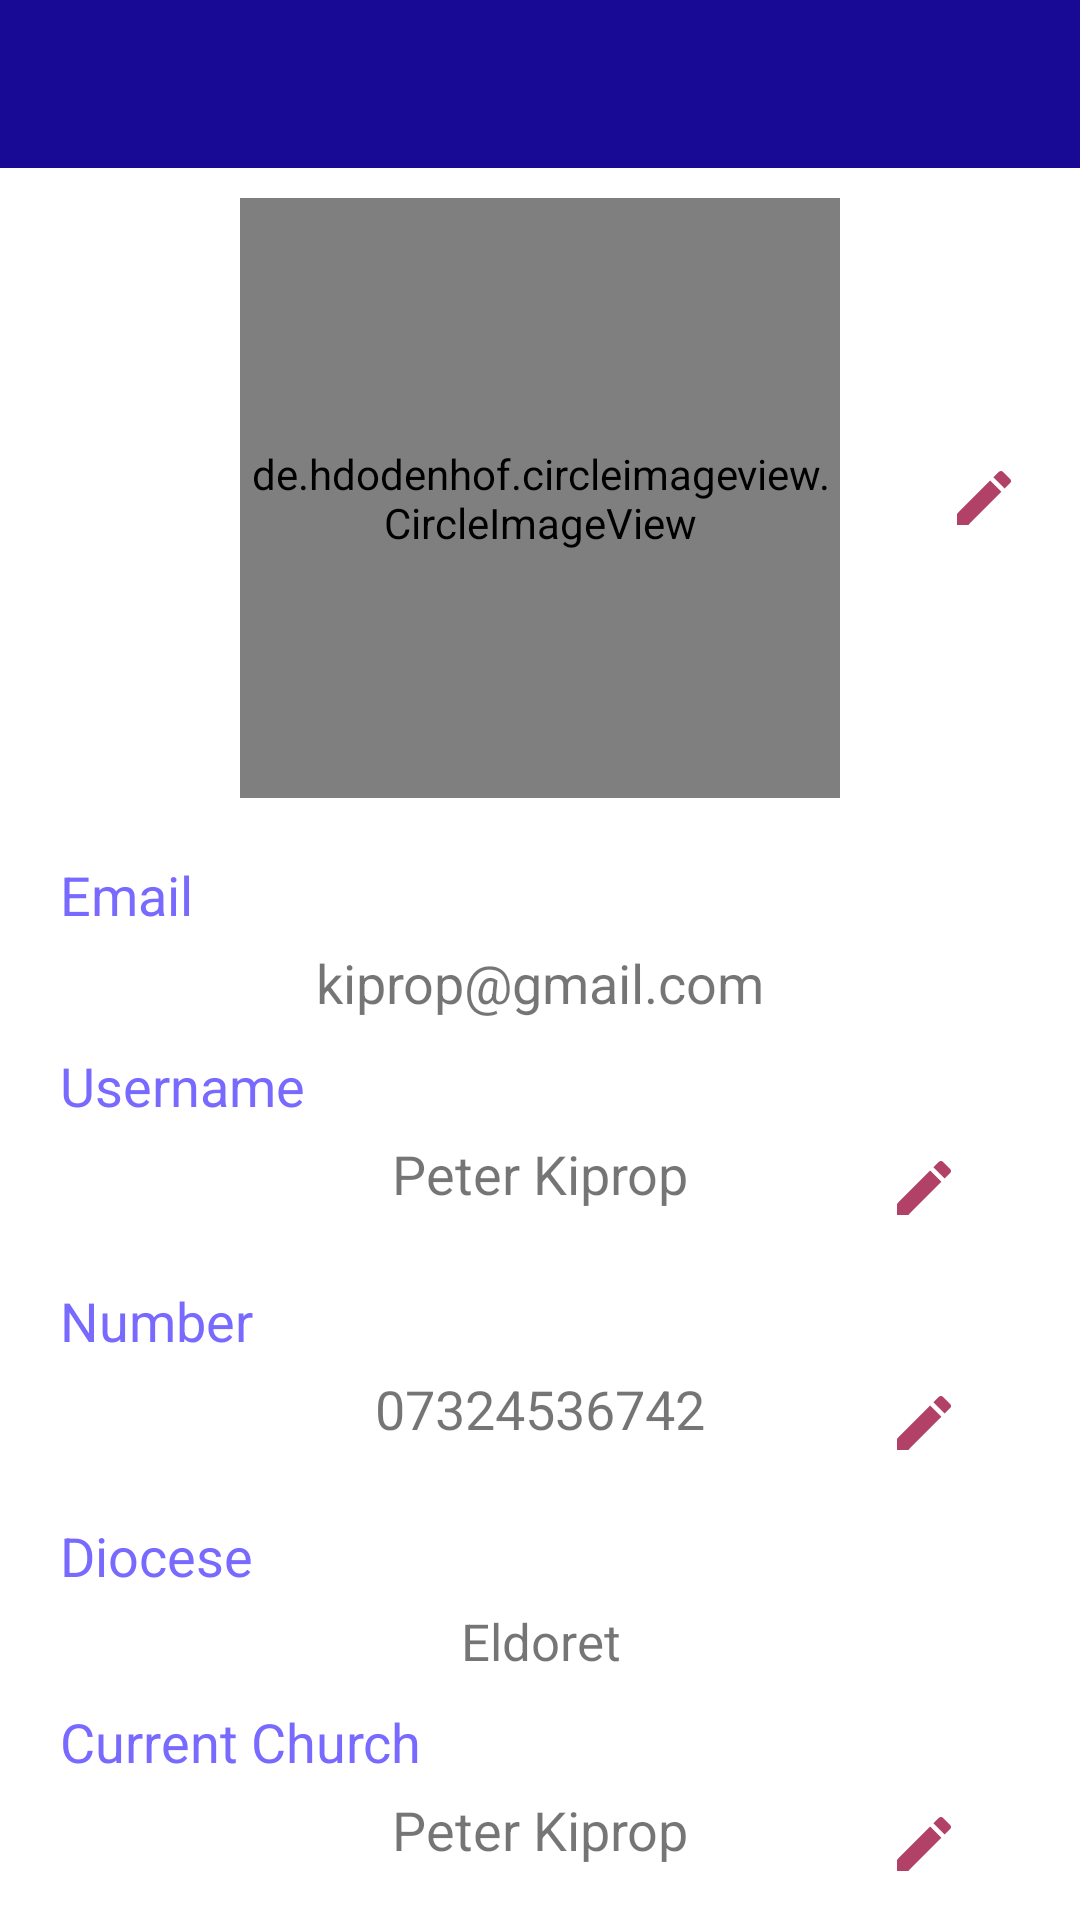

Icon click points for this 1080 x 1920 phone screenshot, format (x,y):
edit: (984,498), (924,1188), (924,1423), (924,1844)
